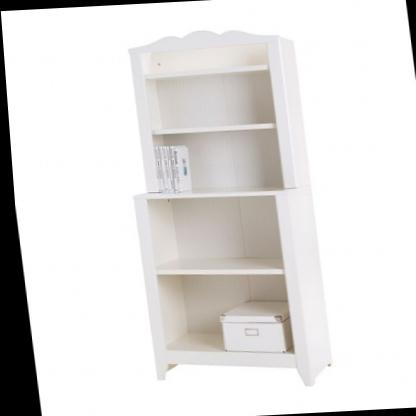Cabinet: (104, 21, 336, 397)
